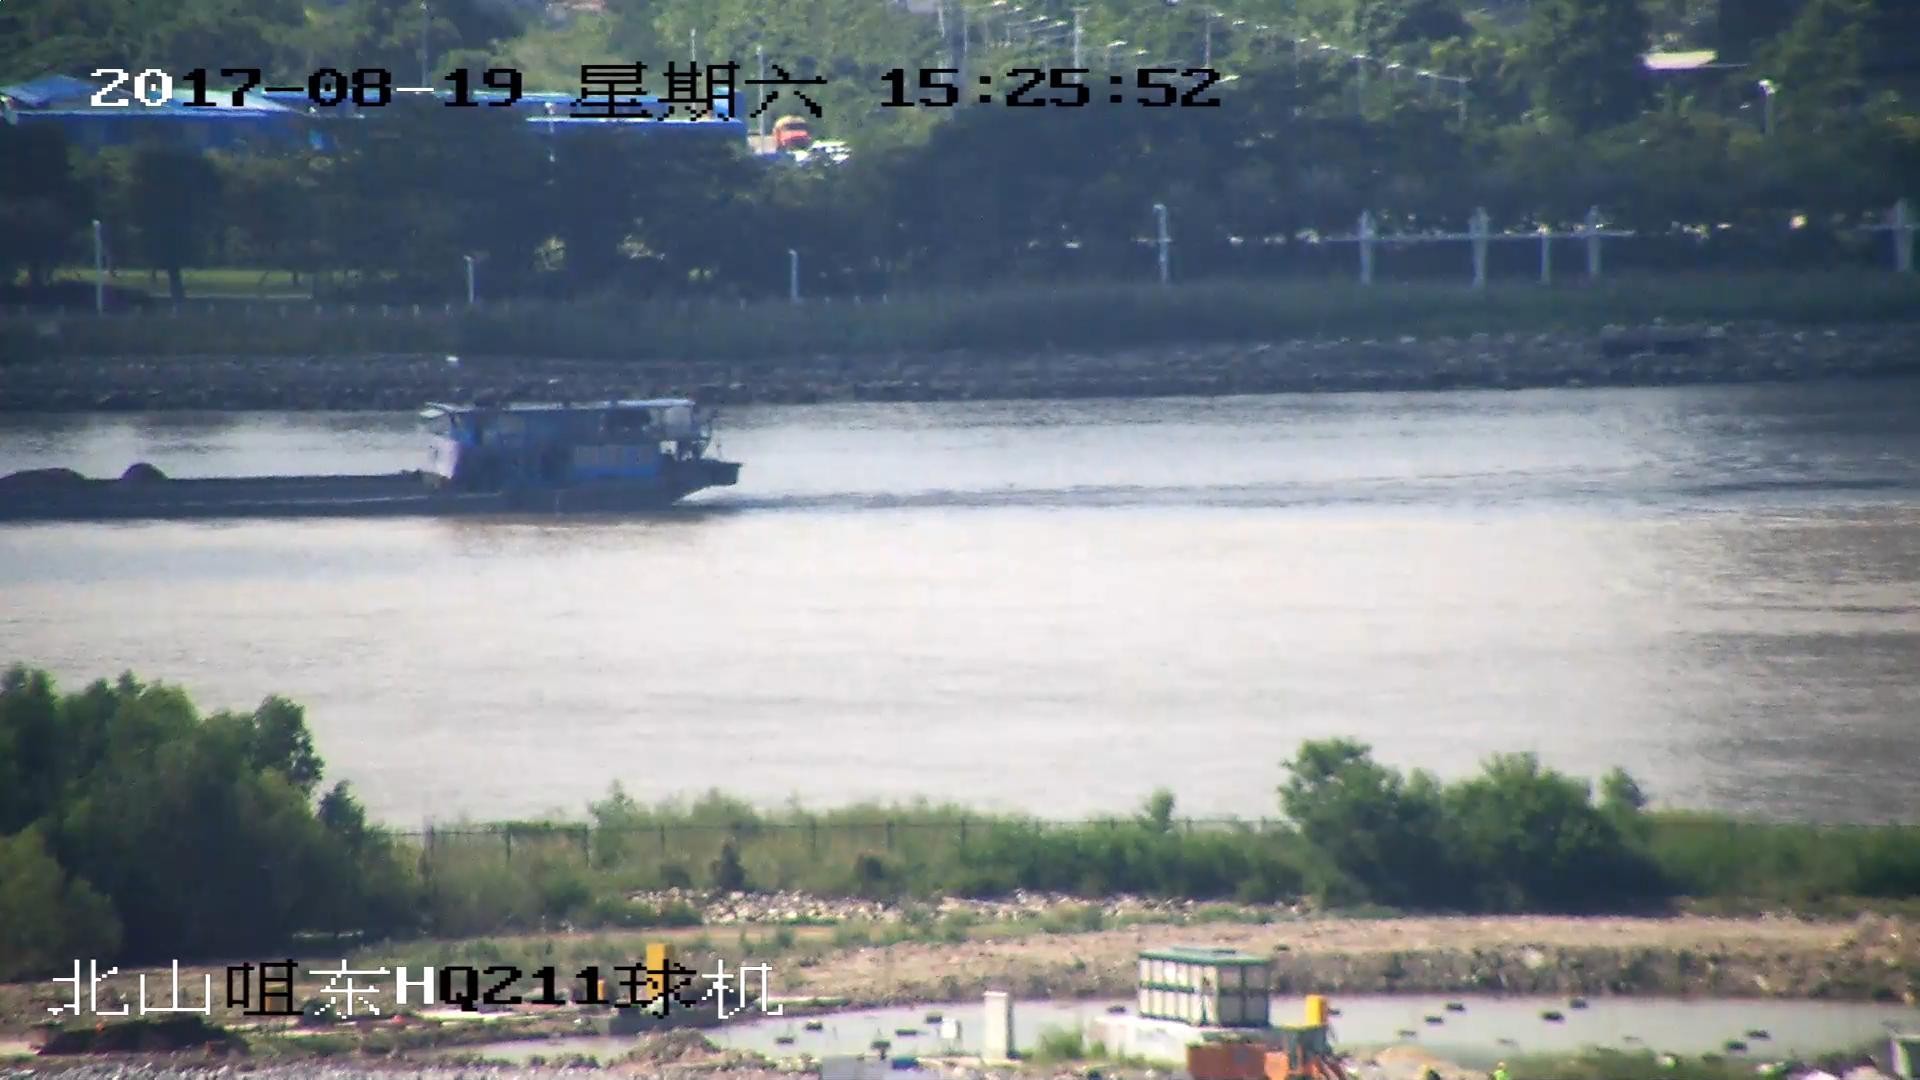Ship: (3, 390, 752, 524)
